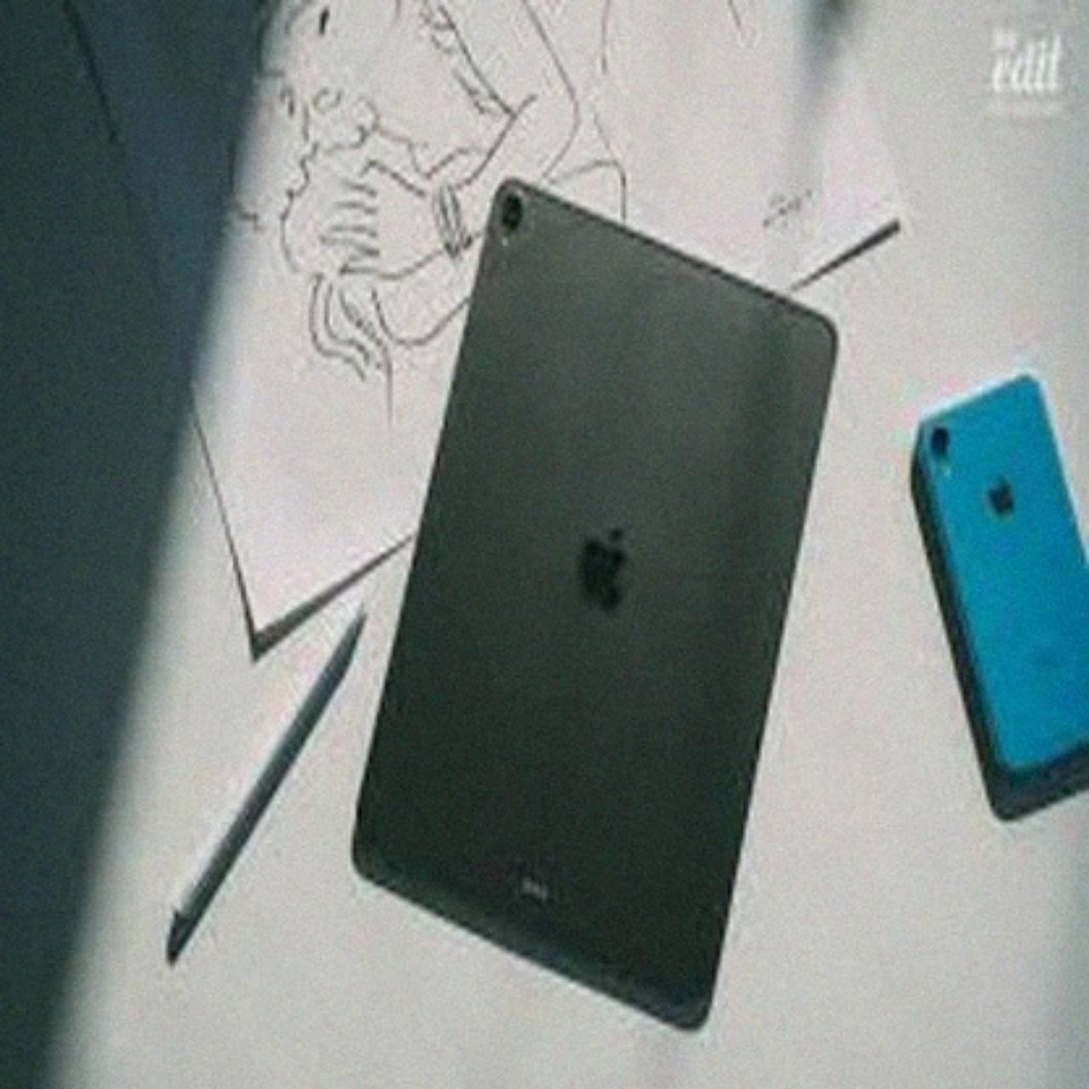Tablet_PC: (343, 170, 858, 1055)
